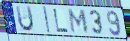3: (89, 9, 104, 35)
9: (106, 9, 122, 37)
I: (42, 6, 51, 34)
L: (53, 8, 70, 34)
M: (68, 8, 90, 34)
U: (14, 5, 35, 33)
